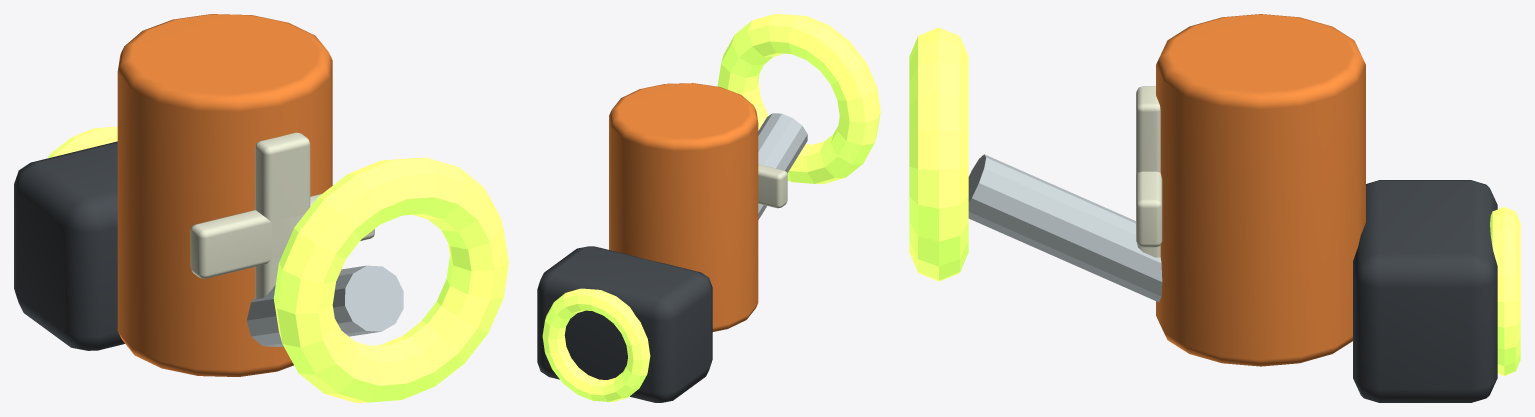
Rendered from module-repair.glb.
The picture shows the model from 3 angles, left to right: view 1: azimuth 30°, elevation 25°; view 2: azimuth 150°, elevation 25°; view 3: azimuth 270°, elevation 25°; orthographic projection. The views are drawn at different scales.
Visible parts, largest first — view 1: Repair oil tank, Repair wrench jaw, Universal connector.005, Repair cross vertical, Repair arm, Repair cross horizontal, Standard attachment ring.005; view 2: Repair oil tank, Universal connector.005, Repair wrench jaw, Standard attachment ring.005, Repair arm, Repair cross horizontal; view 3: Repair oil tank, Universal connector.005, Repair wrench jaw, Repair arm, Standard attachment ring.005, Repair cross vertical, Repair cross horizontal.
Part boxes in pixels (x1=…): Repair oil tank: x1=117, y1=14, x2=332, y2=376; Repair wrench jaw: x1=273, y1=157, x2=508, y2=402; Universal connector.005: x1=14, y1=141, x2=124, y2=350; Repair cross vertical: x1=255, y1=132, x2=310, y2=299; Repair arm: x1=246, y1=265, x2=403, y2=346; Repair cross horizontal: x1=190, y1=193, x2=374, y2=278; Standard attachment ring.005: x1=47, y1=126, x2=117, y2=158; Repair oil tank: x1=609, y1=83, x2=758, y2=331; Universal connector.005: x1=537, y1=246, x2=712, y2=402; Repair wrench jaw: x1=717, y1=14, x2=880, y2=184; Standard attachment ring.005: x1=542, y1=288, x2=650, y2=401; Repair arm: x1=758, y1=113, x2=807, y2=219; Repair cross horizontal: x1=758, y1=164, x2=787, y2=208; Repair oil tank: x1=1156, y1=14, x2=1365, y2=366; Universal connector.005: x1=1353, y1=180, x2=1497, y2=402; Repair wrench jaw: x1=909, y1=27, x2=968, y2=281; Repair arm: x1=968, y1=154, x2=1162, y2=302; Standard attachment ring.005: x1=1490, y1=207, x2=1520, y2=376; Repair cross vertical: x1=1136, y1=86, x2=1160, y2=257; Repair cross horizontal: x1=1136, y1=171, x2=1162, y2=247.
Size of the model in its own units: 0.39 by 0.555 by 0.93.
